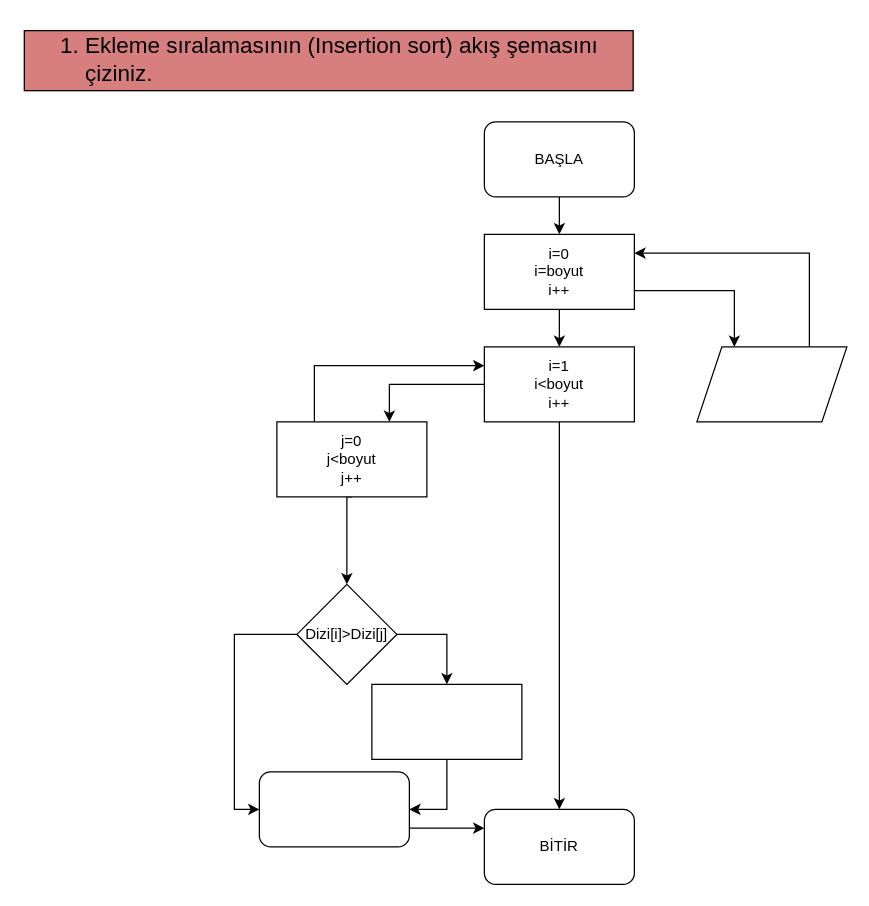
This 869x906 diagram has some shape labels left out. Each missing label, with the box of its shape:
Dizi[i]: (696, 346, 847, 422)
Dizi[j]: (258, 771, 409, 847)
temp = Dizi[i] Dizi[i]=Dizi[j] Dizi[j]=temp: (371, 683, 522, 759)
